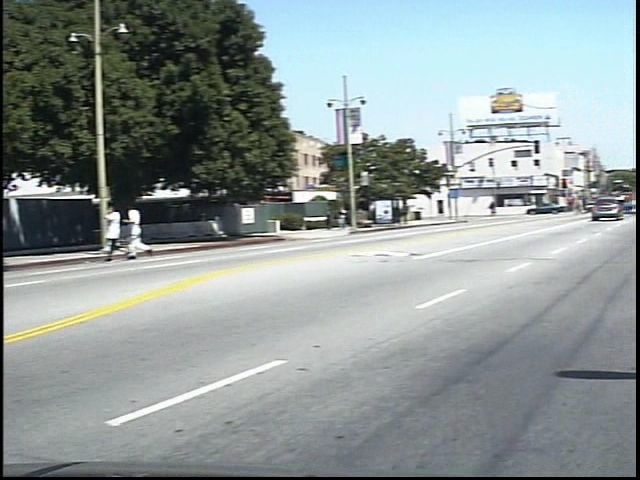person: (116, 198, 142, 261), (139, 200, 164, 261), (347, 203, 363, 232), (334, 206, 348, 232), (499, 197, 512, 219)
